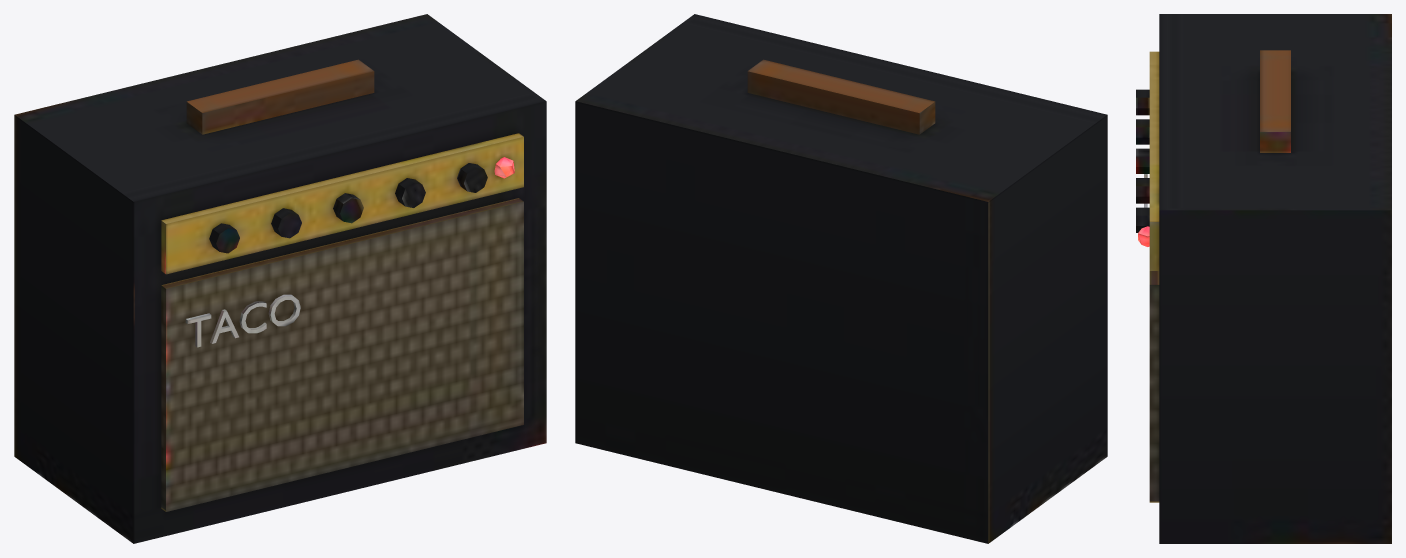
File: amplificador.glb
3 renders of one model, left to right at view 1: azimuth 30°, elevation 25°; view 2: azimuth 150°, elevation 25°; view 3: azimuth 270°, elevation 25°, orthographic. The views are drawn at different scales.
Parts seen in each view (by area): view 1: amplificador; view 2: amplificador; view 3: amplificador.
Boxes of the visible parts, x1=… form: amplificador: x1=14, y1=14, x2=546, y2=543; amplificador: x1=575, y1=14, x2=1107, y2=543; amplificador: x1=1136, y1=14, x2=1391, y2=543.
Bounding box in the file's own units: 1.2 × 1.01 × 0.66.
1 material, 1 textured.
